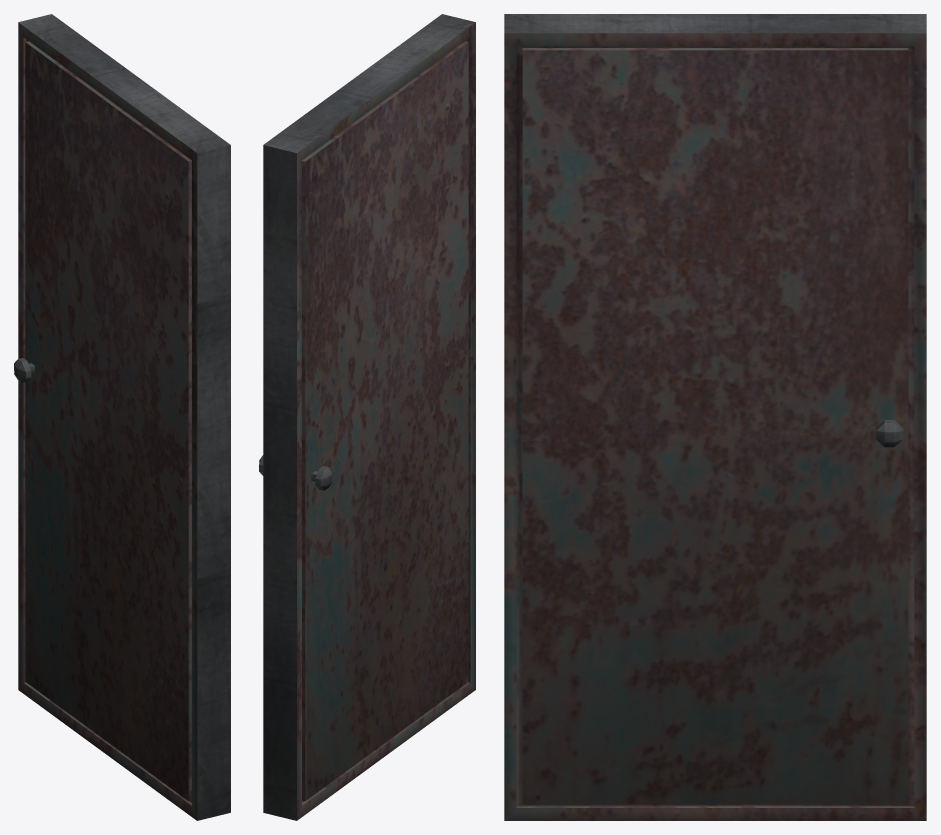
File: door.obj
3 views of the same model, side by side, from view 1: azimuth 30°, elevation 25°; view 2: azimuth 150°, elevation 25°; view 3: azimuth 270°, elevation 25° (orthographic). The views are drawn at different scales.
Visible parts, largest first — view 1: door; view 2: door; view 3: door.
Part boxes in pixels (x1=…): door: x1=14, y1=14, x2=230, y2=820; door: x1=259, y1=14, x2=475, y2=820; door: x1=504, y1=14, x2=926, y2=820.
Bounding box in the file's own units: 0.5965 × 5.54 × 2.69.
